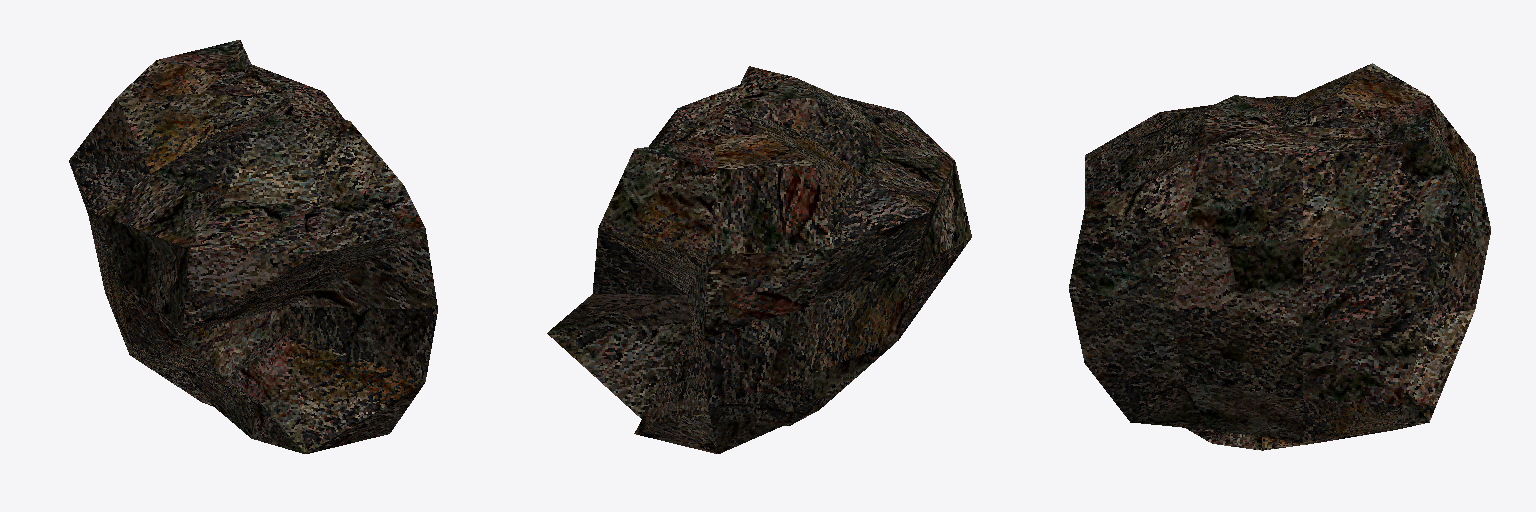
3 views of the same model, side by side, from view 1: azimuth 30°, elevation 25°; view 2: azimuth 150°, elevation 25°; view 3: azimuth 270°, elevation 25° (orthographic).
Size of the model in its own units: 1.67 by 1.47 by 1.9.
1 materials, 1 textured.